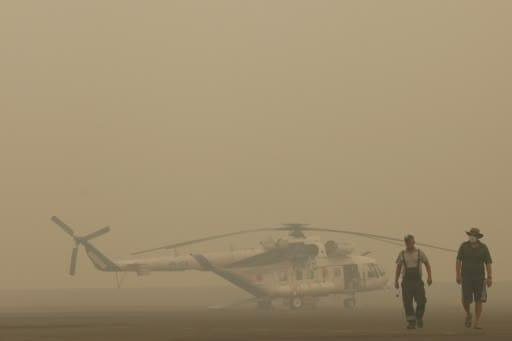Kendaraan: (50, 215, 458, 314)
Manusia: (455, 227, 493, 329), (393, 234, 432, 329)
